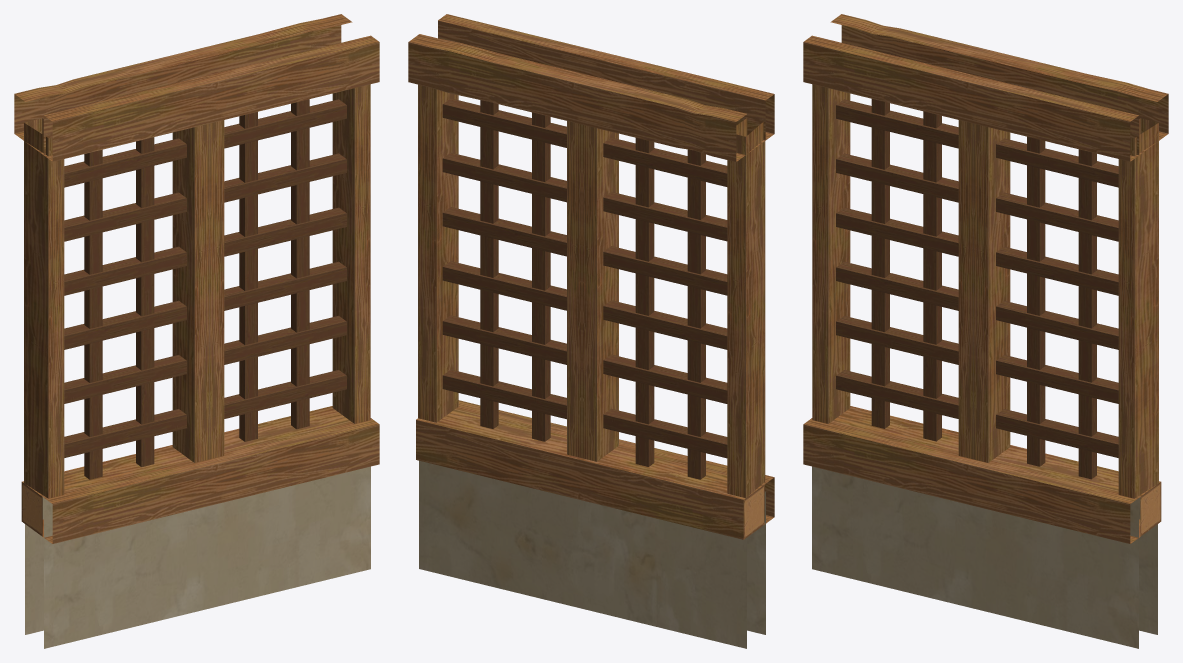
Rendered from wall_plaster_timber.glb.
The picture shows the model from 3 angles, left to right: view 1: azimuth 30°, elevation 25°; view 2: azimuth 150°, elevation 25°; view 3: azimuth 330°, elevation 25°; orthographic projection.
Visible parts, largest first — view 1: Wall_Plaster_WoodGrid; view 2: Wall_Plaster_WoodGrid; view 3: Wall_Plaster_WoodGrid.
Part boxes in pixels (<box>): Wall_Plaster_WoodGrid: <box>14,14,379,648</box>; Wall_Plaster_WoodGrid: <box>408,14,774,648</box>; Wall_Plaster_WoodGrid: <box>803,14,1168,648</box>.
Bounding box in the file's own units: 2 × 3.12 × 0.4064.
Materials: 2 (2 with a texture image).
